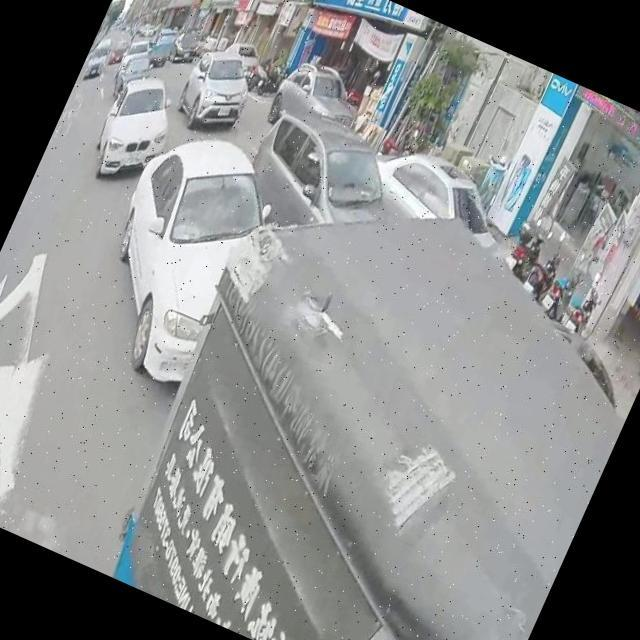person: (628, 257, 640, 332)
